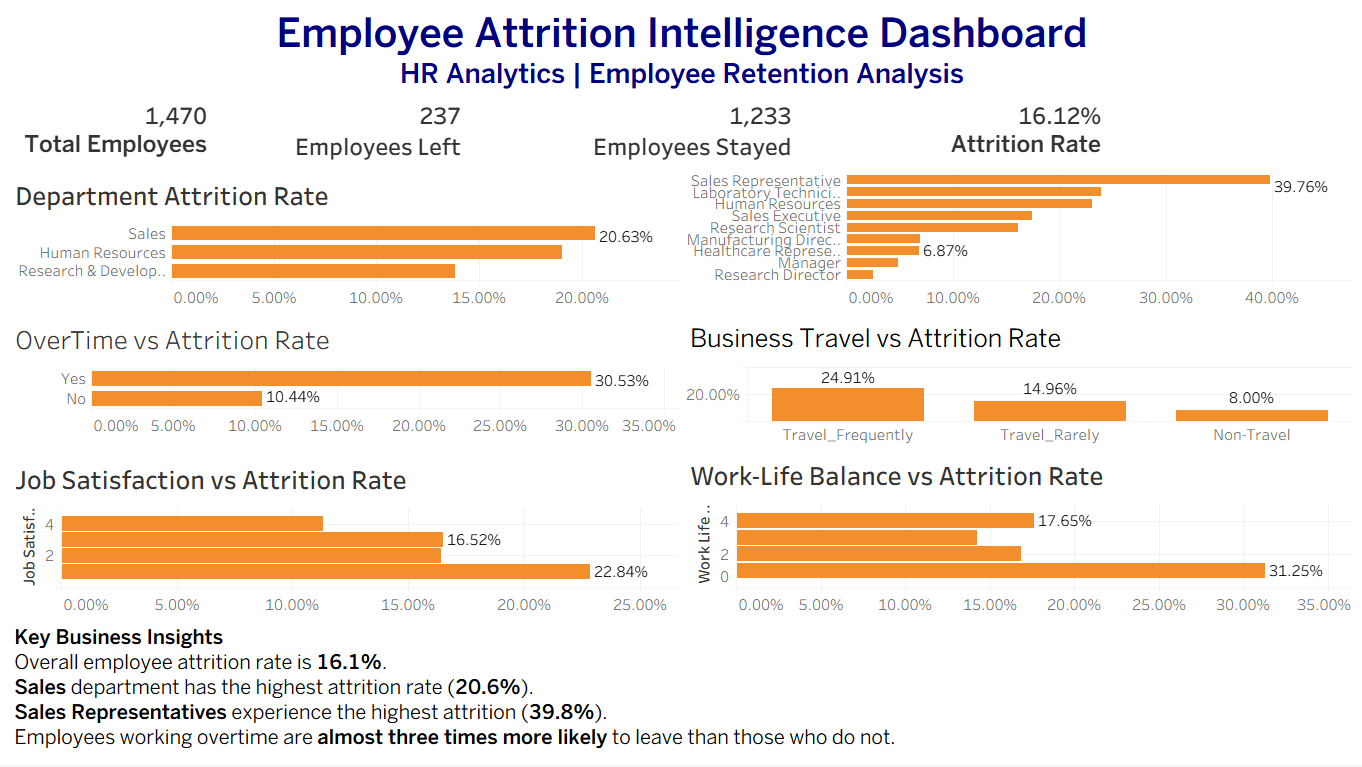

The dashboard page shown, as its layout file describes it:
{"tool":"tableau","page":{"name":"Dashboard 1","canvas":[1366,768],"ordinal":0},"visuals":[{"type":"text","box":[8,8,1350,90]},{"type":"worksheet","title":"KPI - Total Employees","mark":"Automatic","box":[8,98,274,75]},{"type":"worksheet","title":"KPI - Employees Left","mark":"Automatic","box":[282,98,291,75]},{"type":"worksheet","title":"KPI - Employees Stayed","mark":"Automatic","box":[573,98,369,75]},{"type":"worksheet","title":"KPI - Attrition Rate","mark":"Automatic","box":[942,98,384,75]},{"type":"worksheet","title":"Department Attrition Rate","mark":"Automatic","rows":["Department"],"cols":["Calculation_0177869457358852"],"box":[8,173,675,144]},{"type":"worksheet","title":"Job Role Attrition Rate","mark":"Automatic","rows":["JobRole"],"cols":["Calculation_0177869457358852"],"box":[683,173,675,144]},{"type":"worksheet","title":"OverTime vs Attrition Rate","mark":"Automatic","rows":["OverTime"],"cols":["Calculation_0177869457358852"],"box":[8,317,675,140]},{"type":"worksheet","title":"Business Travel vs Attrition Rate","mark":"Automatic","rows":["Calculation_0177869457358852"],"cols":["BusinessTravel"],"box":[683,317,675,136.4]},{"type":"worksheet","title":"Work-Life Balance vs Attrition Rate","mark":"Bar","rows":["WorkLifeBalance"],"cols":["Calculation_0177869457358852"],"box":[683,453.4,675,170.6]},{"type":"worksheet","title":"Job Satisfaction vs Attrition Rate","mark":"Bar","rows":["JobSatisfaction"],"cols":["Calculation_0177869457358852"],"box":[8,457,675,167]},{"type":"text","box":[8,624,1350,136]}]}

Visuals, with their boxes in screenshot pixels (x1, y1, x2, y2), scaled from the page's 1366x768 canvas onto the 1362x767 screenshot:
text: rect(8, 8, 1354, 98)
"KPI - Total Employees" worksheet: rect(8, 98, 281, 173)
"KPI - Employees Left" worksheet: rect(281, 98, 571, 173)
"KPI - Employees Stayed" worksheet: rect(571, 98, 939, 173)
"KPI - Attrition Rate" worksheet: rect(939, 98, 1322, 173)
"Department Attrition Rate" worksheet: rect(8, 173, 681, 317)
"Job Role Attrition Rate" worksheet: rect(681, 173, 1354, 317)
"OverTime vs Attrition Rate" worksheet: rect(8, 317, 681, 456)
"Business Travel vs Attrition Rate" worksheet: rect(681, 317, 1354, 453)
"Work-Life Balance vs Attrition Rate" worksheet (Bar marks): rect(681, 453, 1354, 623)
"Job Satisfaction vs Attrition Rate" worksheet (Bar marks): rect(8, 456, 681, 623)
text: rect(8, 623, 1354, 759)
